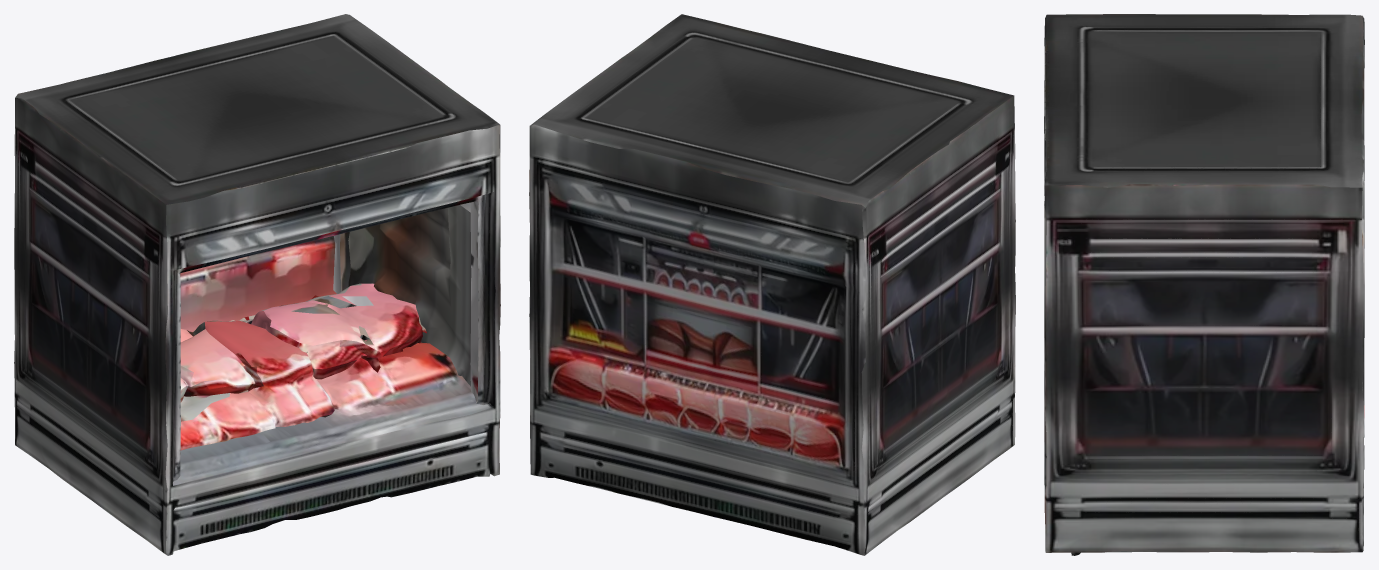
File: balcao_acougue.glb
The picture shows the model from 3 angles, left to right: view 1: azimuth 30°, elevation 25°; view 2: azimuth 150°, elevation 25°; view 3: azimuth 270°, elevation 25°; orthographic projection. The views are drawn at different scales.
Parts seen in each view (by area): view 1: world; view 2: world; view 3: world.
Boxes of the visible parts, x1=… form: world: x1=14, y1=14, x2=500, y2=555; world: x1=529, y1=14, x2=1015, y2=555; world: x1=1044, y1=14, x2=1364, y2=555.
Size of the model in its own units: 0.9081 by 0.9255 by 0.7145.
Materials: 1 (1 with a texture image).
